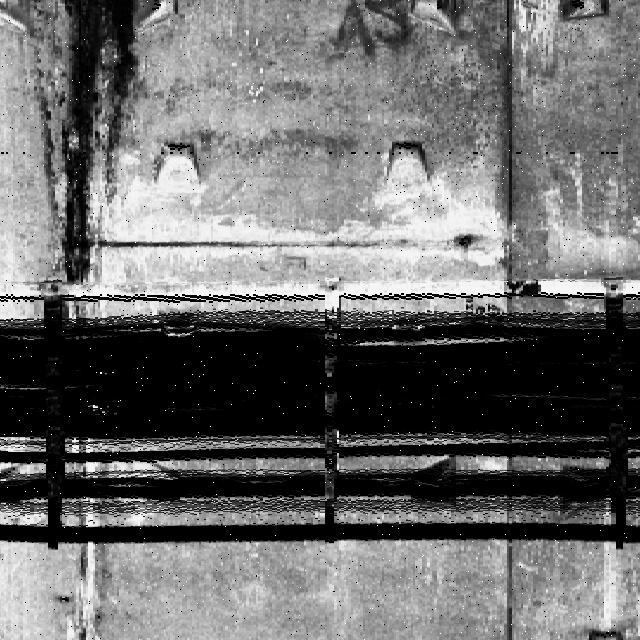leakage: (22, 0, 167, 304)
